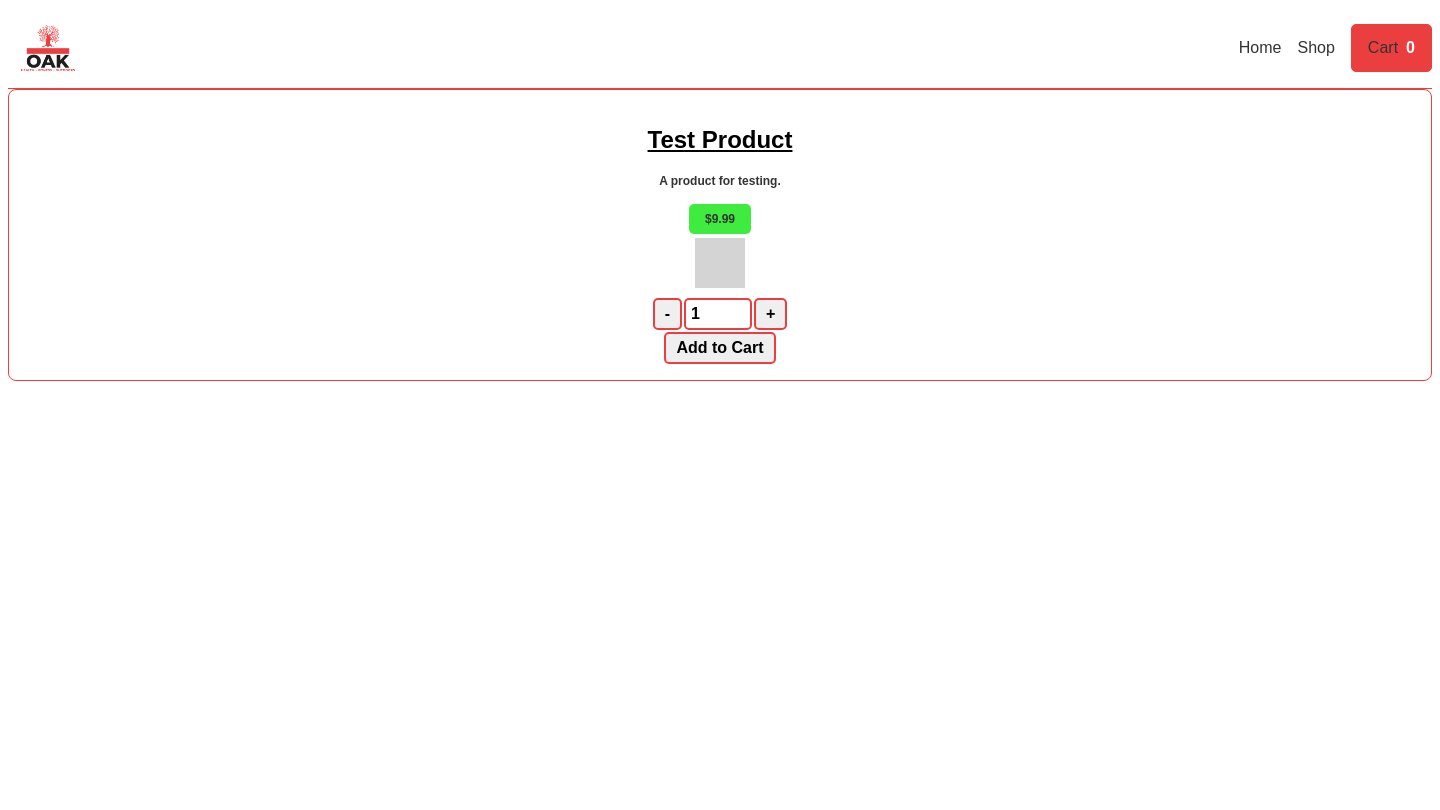
NavBar › updates the cart badge when an item is added to the cart
The image size is (1440, 810).
Check: the text with test id "cart-count" reads "0", box x1=1406 y1=39 x2=1415 y2=56
Click the button "Add to Cart". click: (720, 348)
box: x1=664 y1=332 x2=776 y2=364
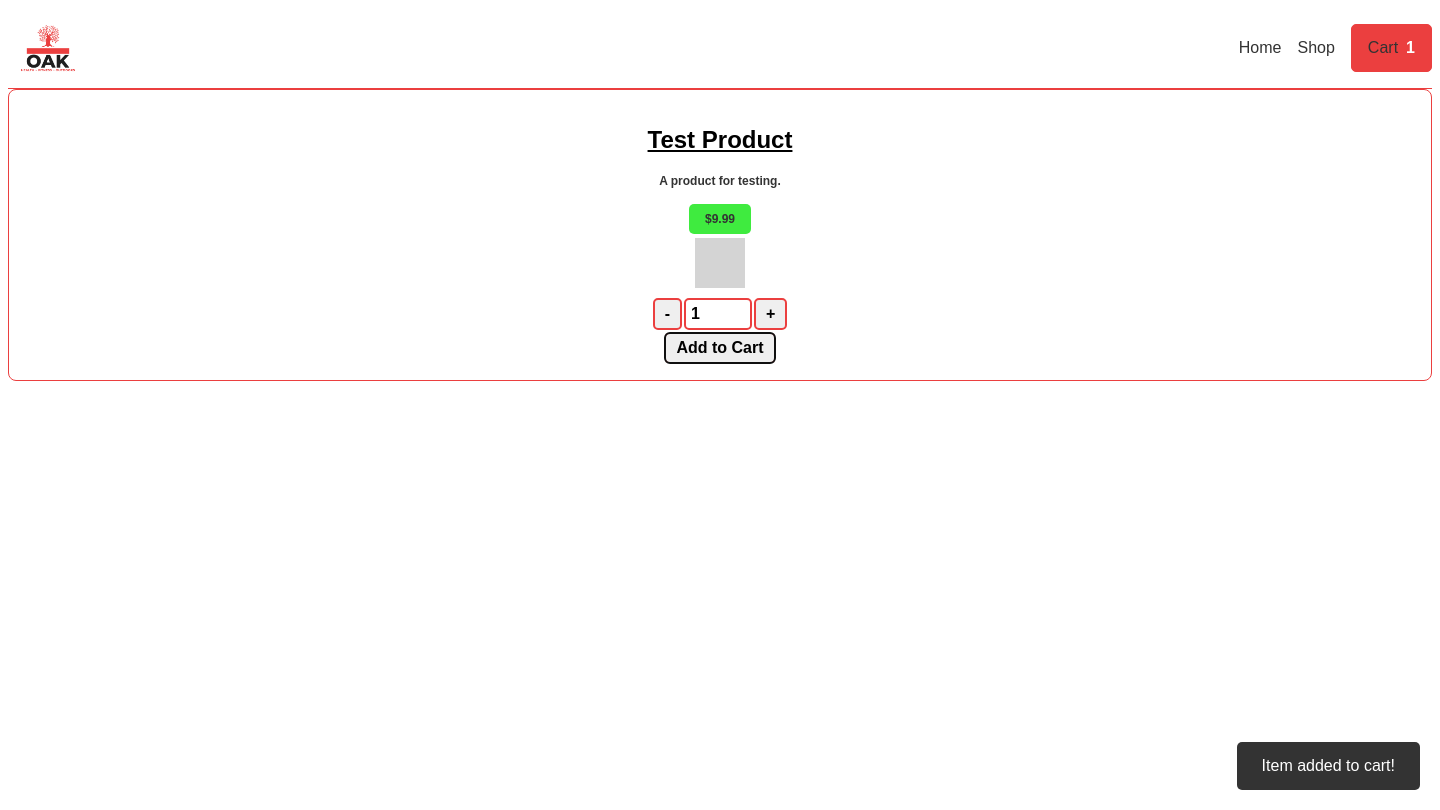
Check: the text with test id "cart-count" reads "1", box x1=1406 y1=39 x2=1415 y2=56
